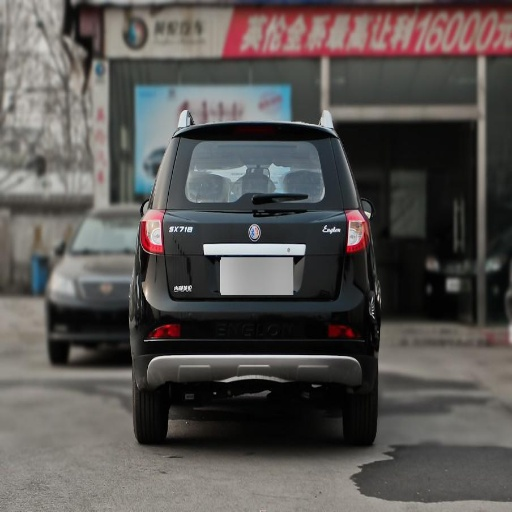back_bumper: (136, 254, 377, 385)
tailgate: (297, 225, 341, 301)
trunk: (145, 211, 348, 331)
